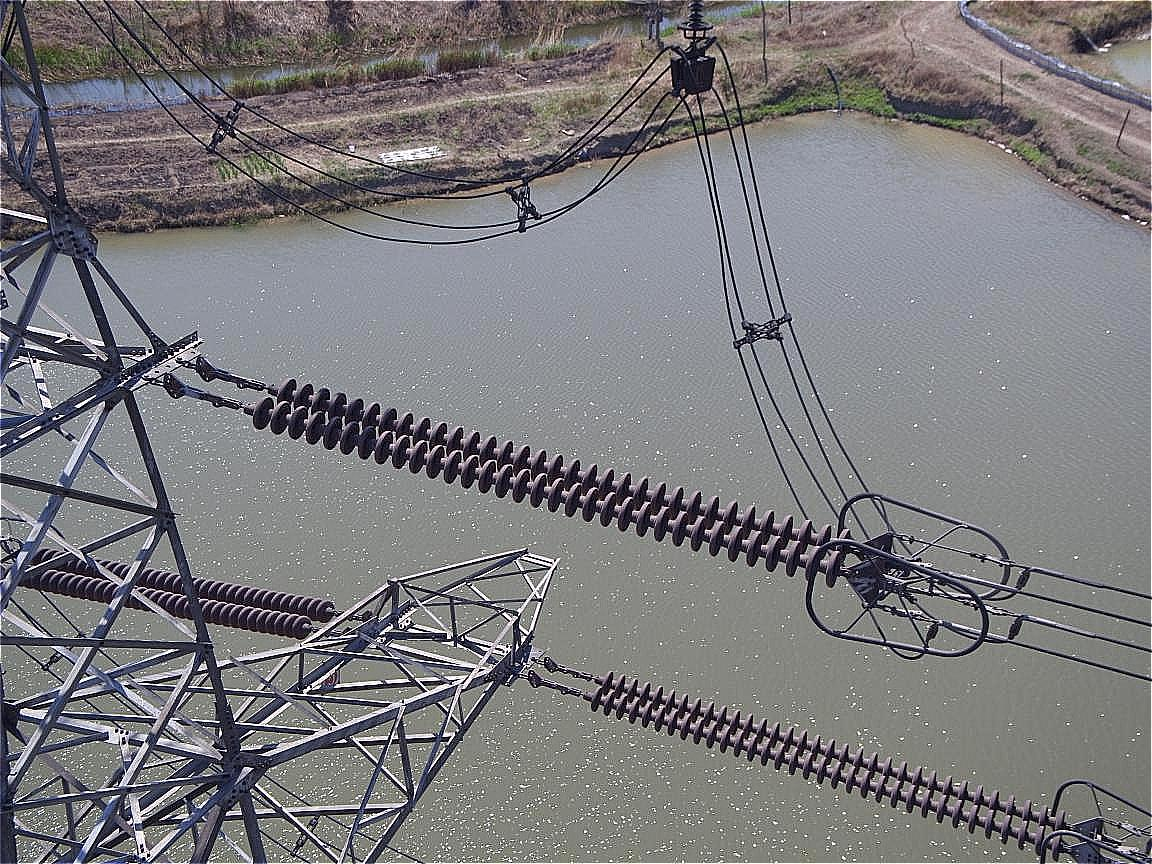insultor1: (222, 376, 902, 606), (586, 677, 1097, 853), (1, 538, 350, 654)
